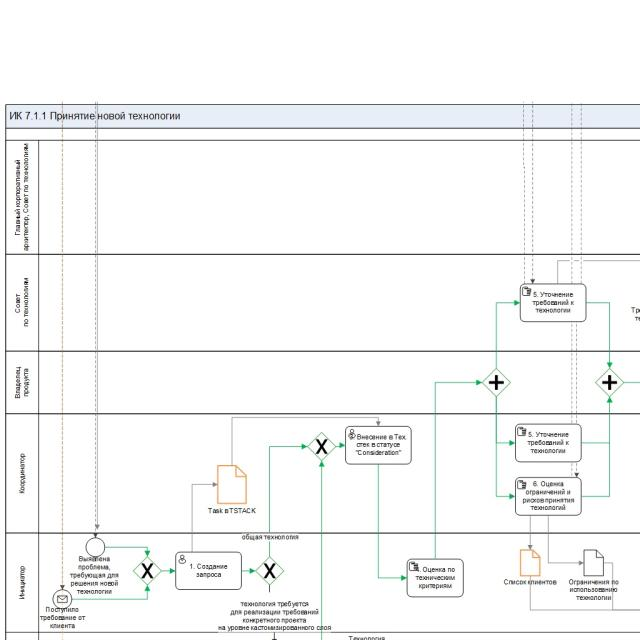arrow: (430, 377, 482, 556), (266, 442, 308, 557), (374, 465, 406, 582), (582, 396, 612, 499), (493, 396, 515, 501), (586, 299, 616, 367), (186, 481, 214, 551), (492, 300, 520, 368), (528, 101, 538, 283), (315, 463, 325, 640), (71, 585, 149, 602), (105, 544, 152, 556), (243, 566, 256, 579), (162, 567, 176, 576), (337, 442, 345, 451)
circle: (53, 589, 72, 608), (86, 538, 105, 557)
diamond: (596, 369, 623, 396), (134, 557, 161, 584), (308, 433, 335, 460), (257, 557, 283, 584), (483, 369, 509, 396)
rectangle: (515, 477, 581, 515), (515, 424, 581, 462), (520, 284, 586, 321), (345, 427, 411, 464), (176, 552, 241, 589), (406, 558, 465, 598)
text_region: (216, 600, 332, 632), (12, 144, 36, 251), (44, 108, 186, 122), (70, 556, 118, 596), (13, 268, 34, 342), (14, 440, 32, 510), (568, 578, 619, 602), (40, 606, 86, 630), (11, 361, 33, 406), (15, 554, 31, 612), (502, 578, 560, 588), (203, 506, 260, 516), (236, 534, 301, 541)
